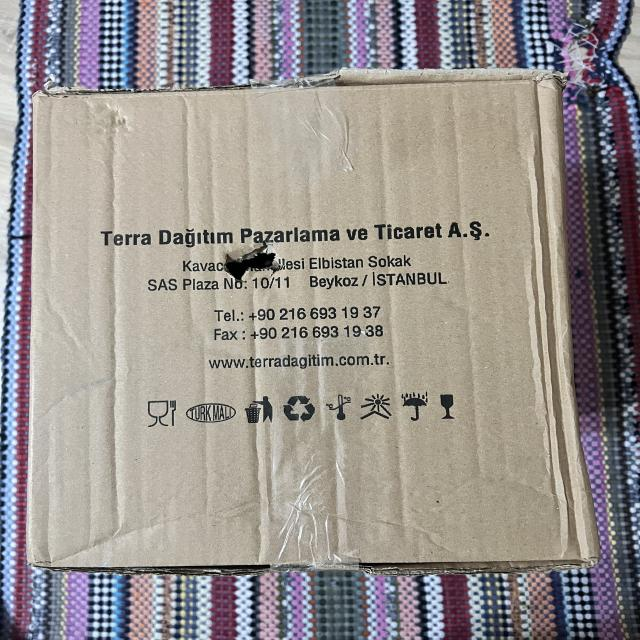damaged: (15, 73, 601, 582), (208, 236, 296, 292)
